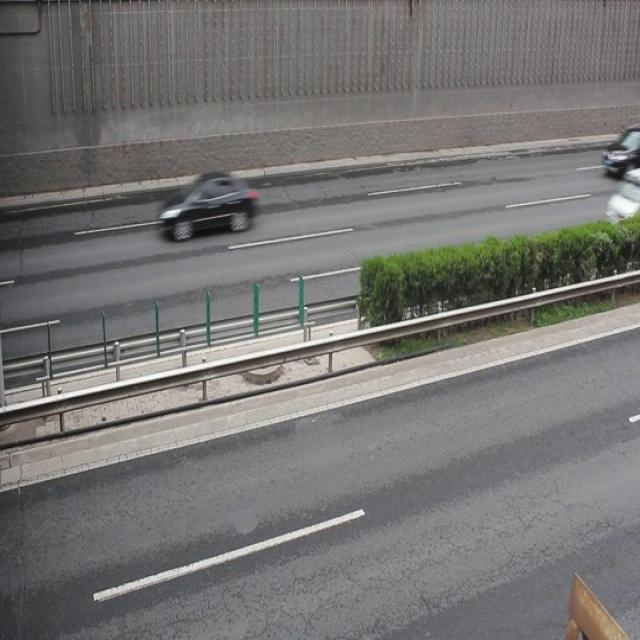car: (157, 168, 258, 239), (600, 125, 640, 176)
truck: (603, 165, 640, 245)
